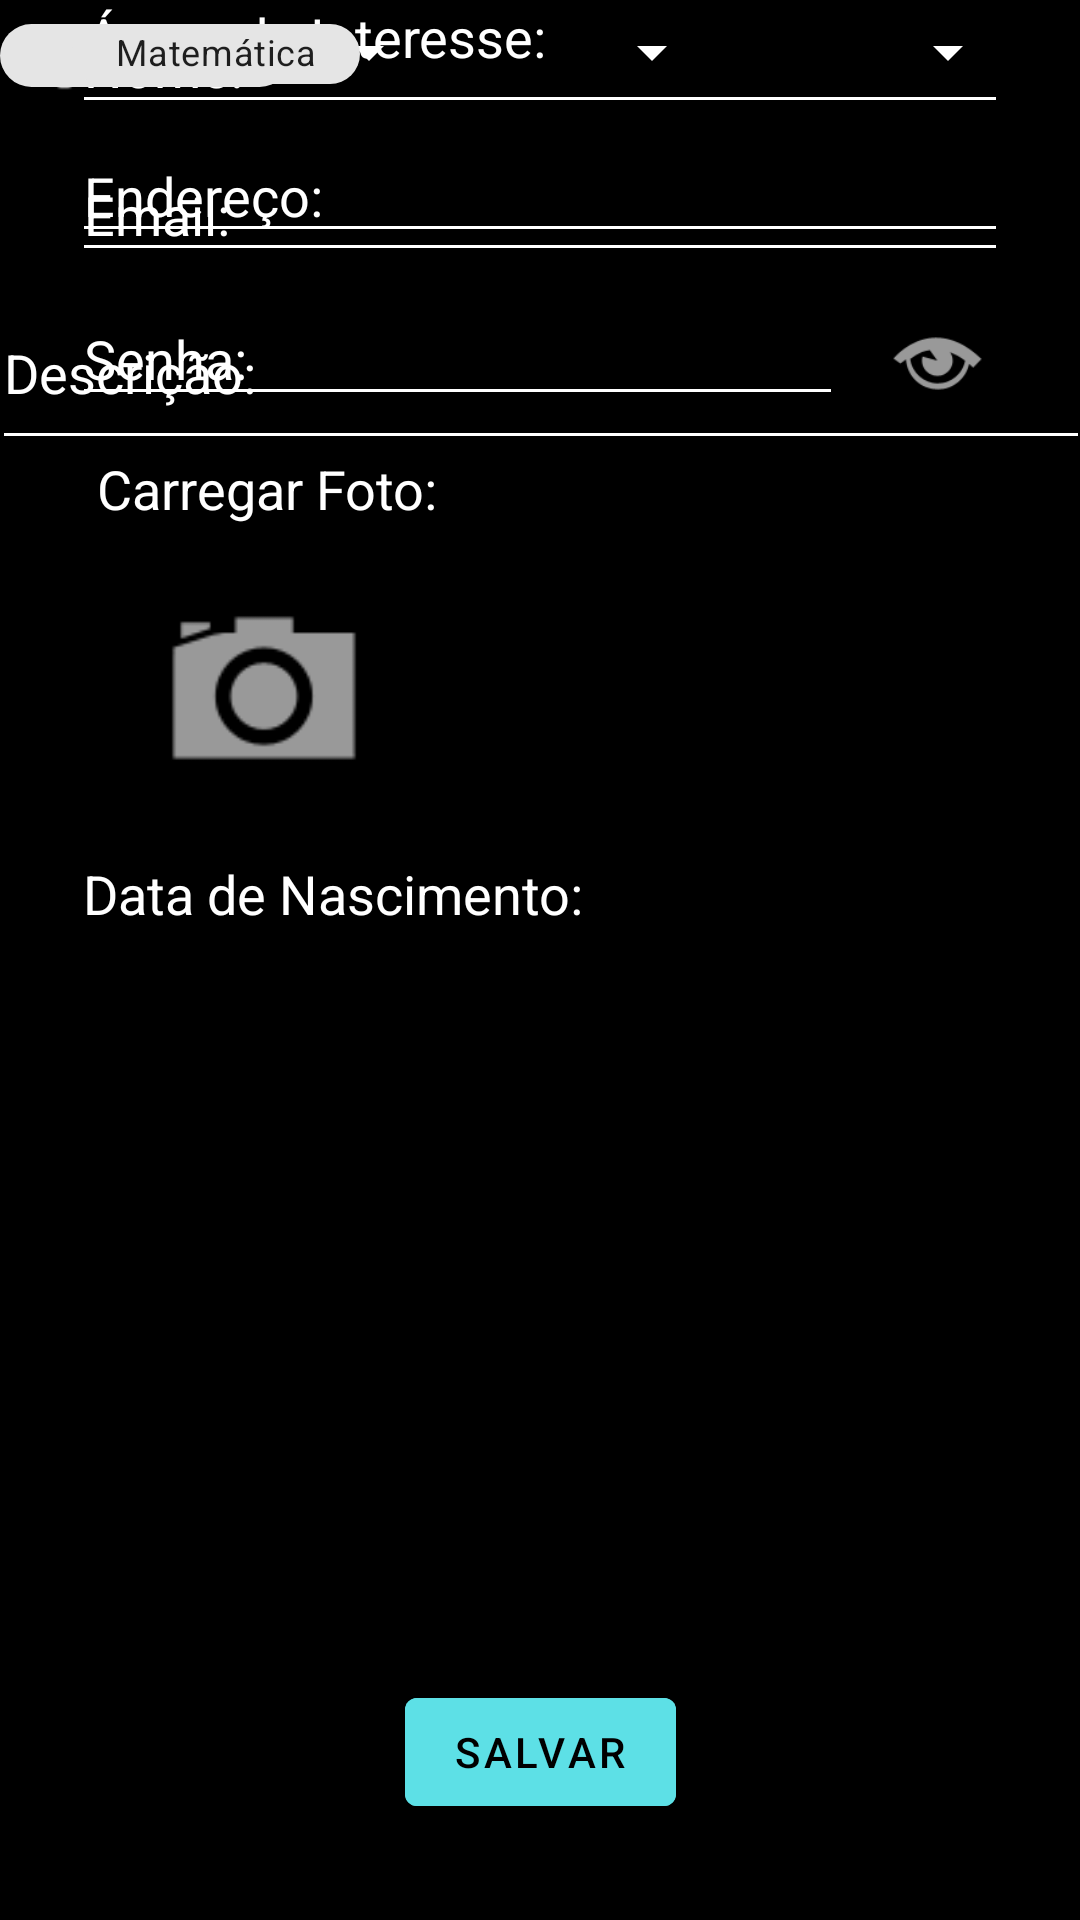

Where to tap for icons on this 1080px x 1920px app screen, as [x,y]:
camera: [264,688]
view: [937,363]
